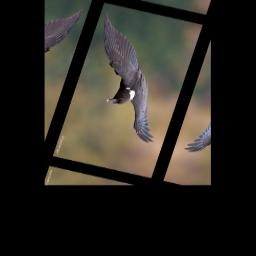Crow: (66, 12, 191, 145)
